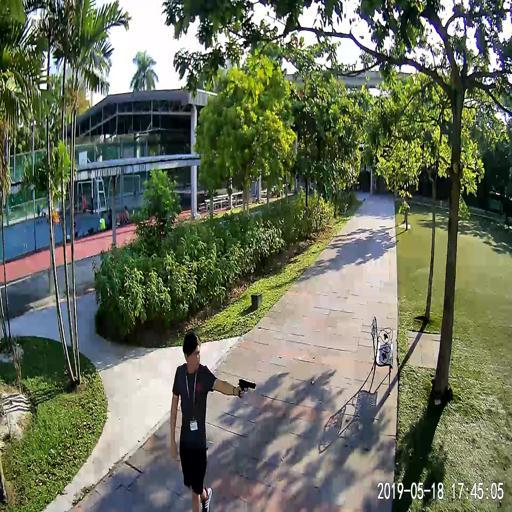Handgun: (236, 375, 254, 396)
